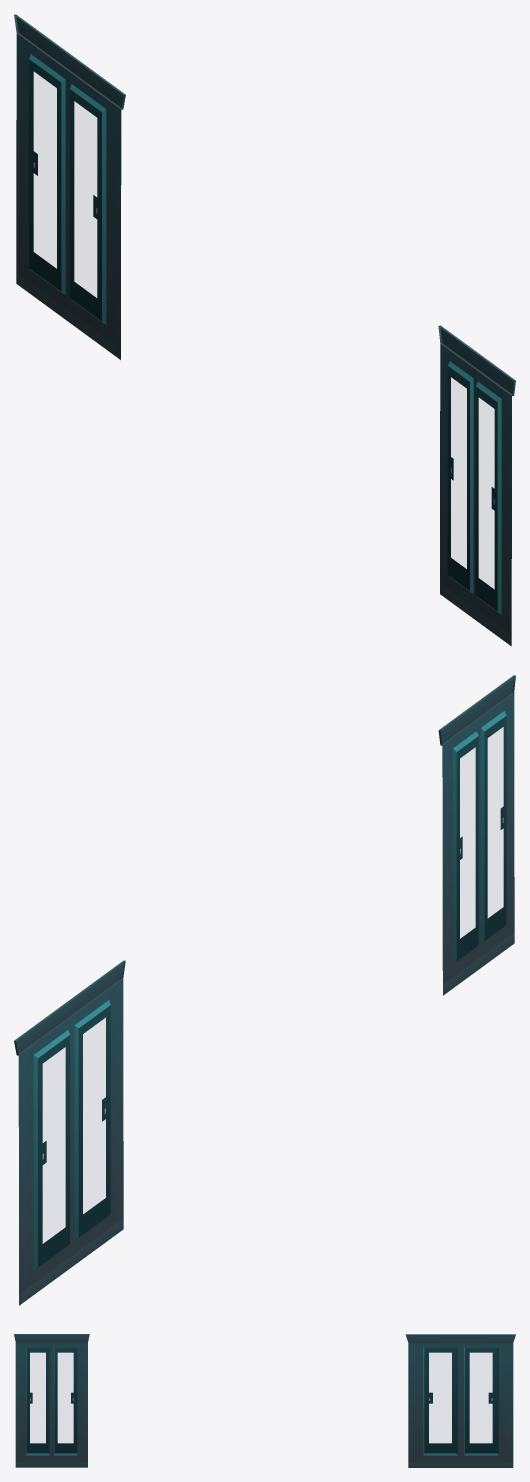
The model's file is bus_Door_mdl.fbx.
3 renders of one model, top to bottom at view 1: azimuth 30°, elevation 25°; view 2: azimuth 150°, elevation 25°; view 3: azimuth 270°, elevation 25°, orthographic. The views are drawn at different scales.
Visible parts, largest first — view 1: busDoors; view 2: busDoors; view 3: busDoors.
Boxes of the visible parts, x1,y1,x2,y2 form: busDoors: (14,14,515,646); busDoors: (14,675,515,1305); busDoors: (14,1334,515,1467).
Size of the model in its own units: 4.65 by 205 by 696.
